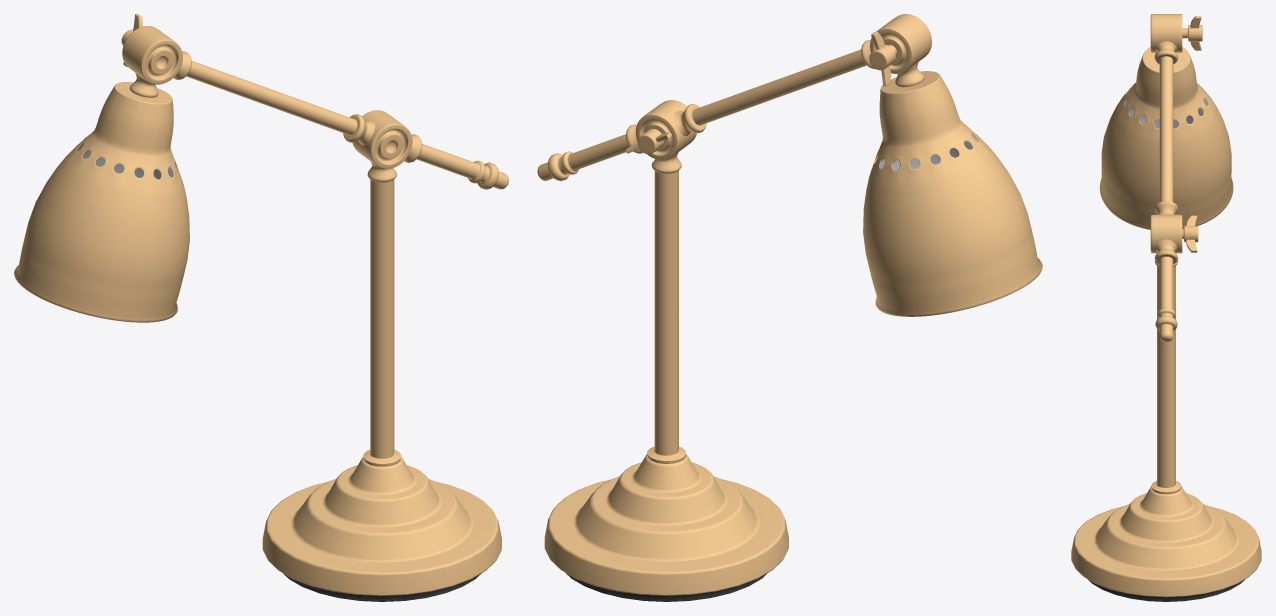
The model's file is ikea_barometer.glb.
3 renders of one model, left to right at view 1: azimuth 30°, elevation 25°; view 2: azimuth 150°, elevation 25°; view 3: azimuth 270°, elevation 25°, orthographic. The views are drawn at different scales.
Parts seen in each view (by area): view 1: Object_3, Object_2; view 2: Object_3, Object_2; view 3: Object_3, Object_2.
Part boxes in pixels (x1,y1,x2,y2): Object_3: (14,82,501,601); Object_2: (121,14,508,189); Object_3: (544,71,1042,601); Object_2: (537,14,931,181); Object_3: (1071,47,1261,601); Object_2: (1150,14,1202,342).
Bounding box in the file's own units: 46.39 × 53.5 × 19.94.
1 material, 1 textured.
